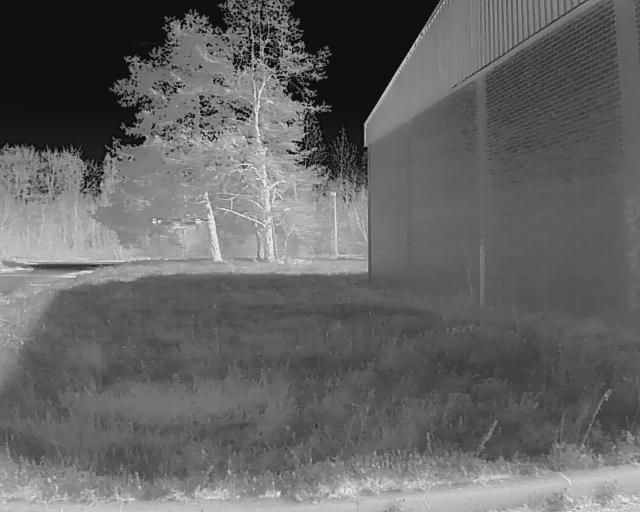drone: (147, 212, 210, 233)
